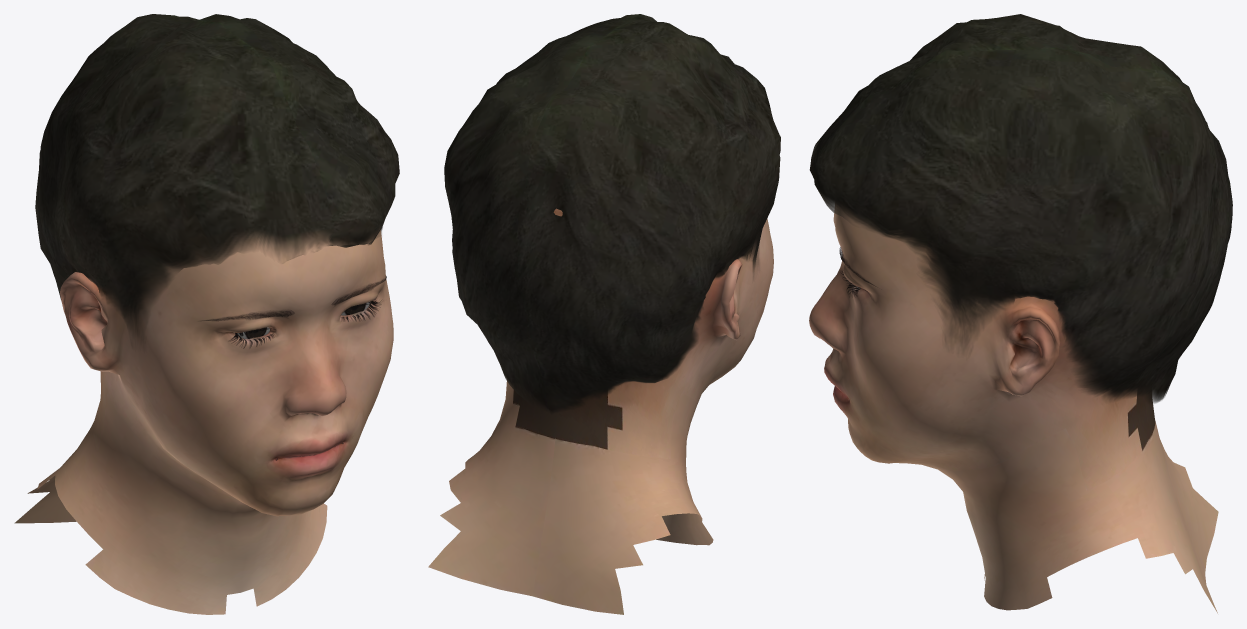
Rendered from patient01.glb.
3 renders of one model, left to right at view 1: azimuth 30°, elevation 25°; view 2: azimuth 150°, elevation 25°; view 3: azimuth 270°, elevation 25°, orthographic. The views are drawn at different scales.
Parts seen in each view (by area): view 1: park_daeri.body, park_daeri.short02, park_daeri.eyebrow001, park_daeri.eyelashes01; view 2: park_daeri.short02, park_daeri.body; view 3: park_daeri.short02, park_daeri.body.
Part boxes in pixels (x1,y1,x2,y2): park_daeri.body: (14, 230, 393, 614); park_daeri.short02: (35, 14, 399, 343); park_daeri.eyebrow001: (201, 276, 386, 321); park_daeri.eyelashes01: (228, 300, 381, 348); park_daeri.short02: (444, 14, 780, 413); park_daeri.body: (428, 208, 773, 614); park_daeri.short02: (809, 14, 1232, 403); park_daeri.body: (809, 204, 1218, 613).
Size of the model in its own units: 0.1755 by 0.317 by 0.2203.
8 materials, 7 textured.
